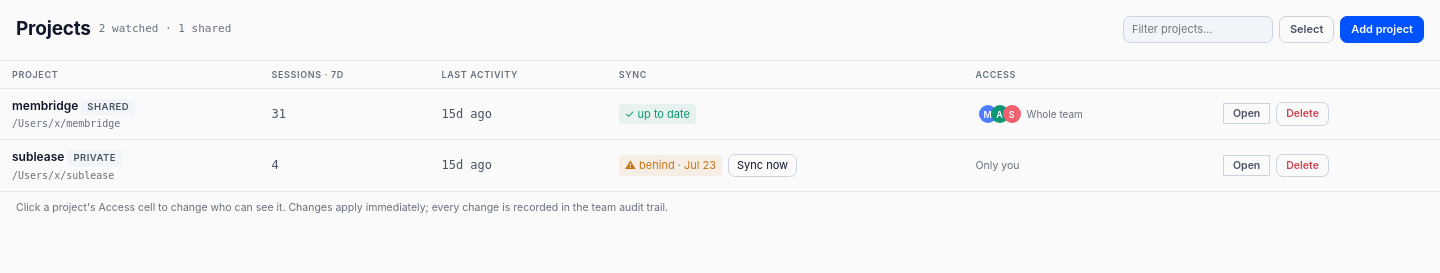
Test: select mode › clears the selection on Cancel
Check: the row with test id "project-row-membridge" is shown, box left=0, top=88, right=1439, bottom=140
Click the button "Select": (1307,29) left=1279, top=16, right=1334, bottom=42
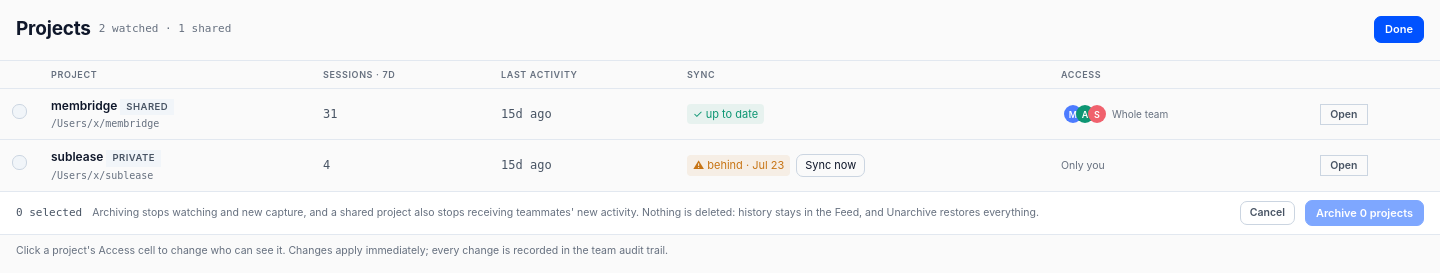
Click the checkbox named "select membridge": (20,112) left=12, top=104, right=27, bottom=119
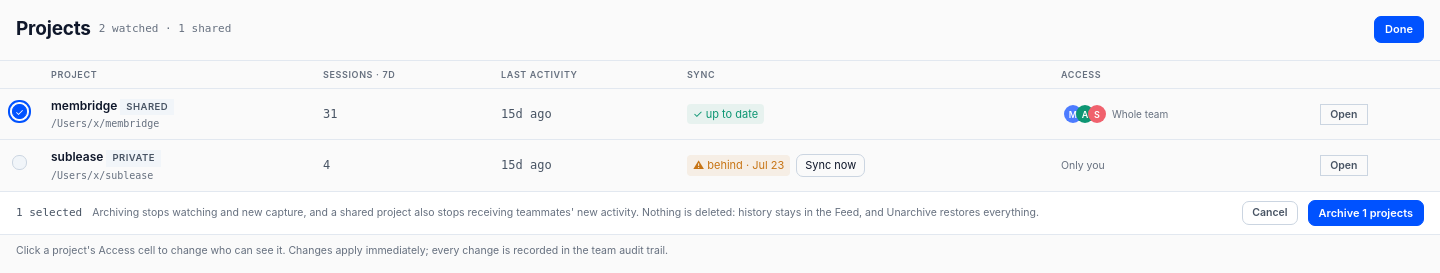
Click the button "Cancel": (1270,213) left=1242, top=201, right=1298, bottom=225
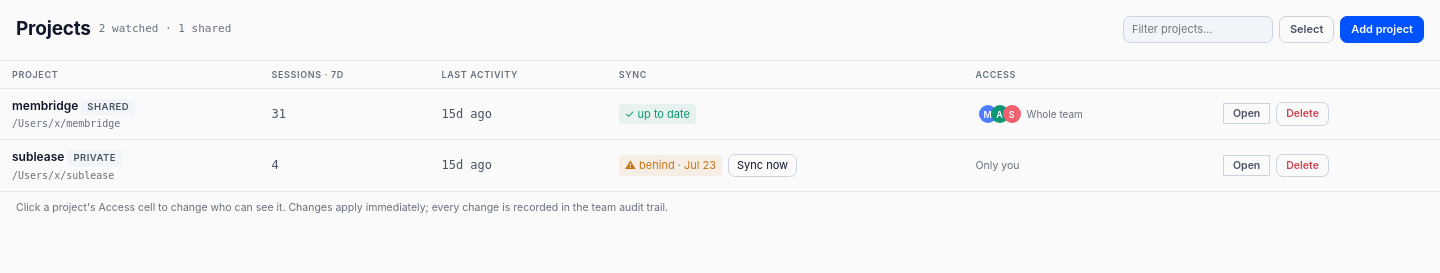
Click the button "Select": (1307,29) left=1279, top=16, right=1334, bottom=42
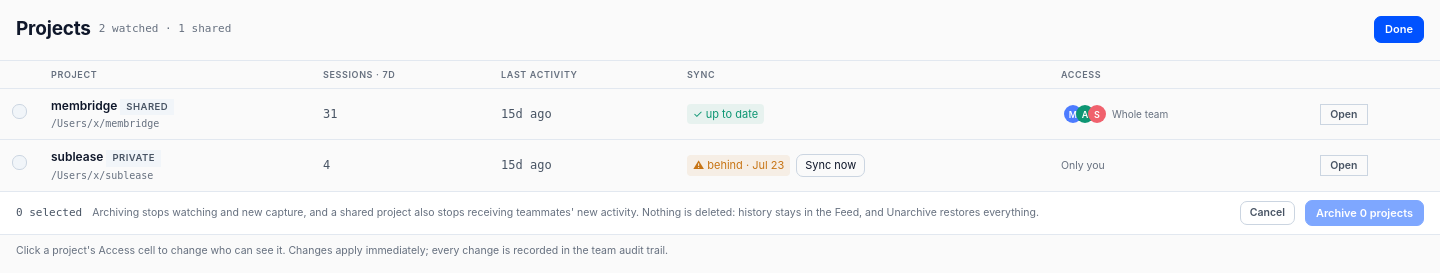
Check: the checkbox named "select membridge" is not checked, box left=12, top=104, right=27, bottom=119
